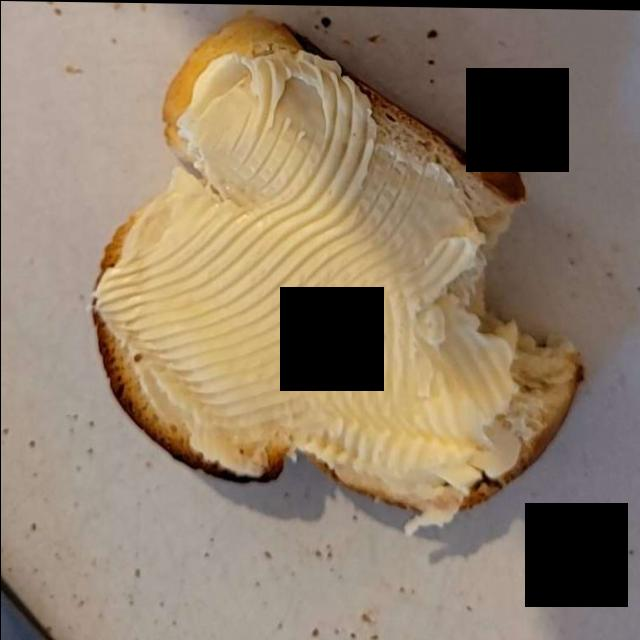braided-white-loaf: (93, 26, 575, 506)
butter: (105, 60, 524, 484)
